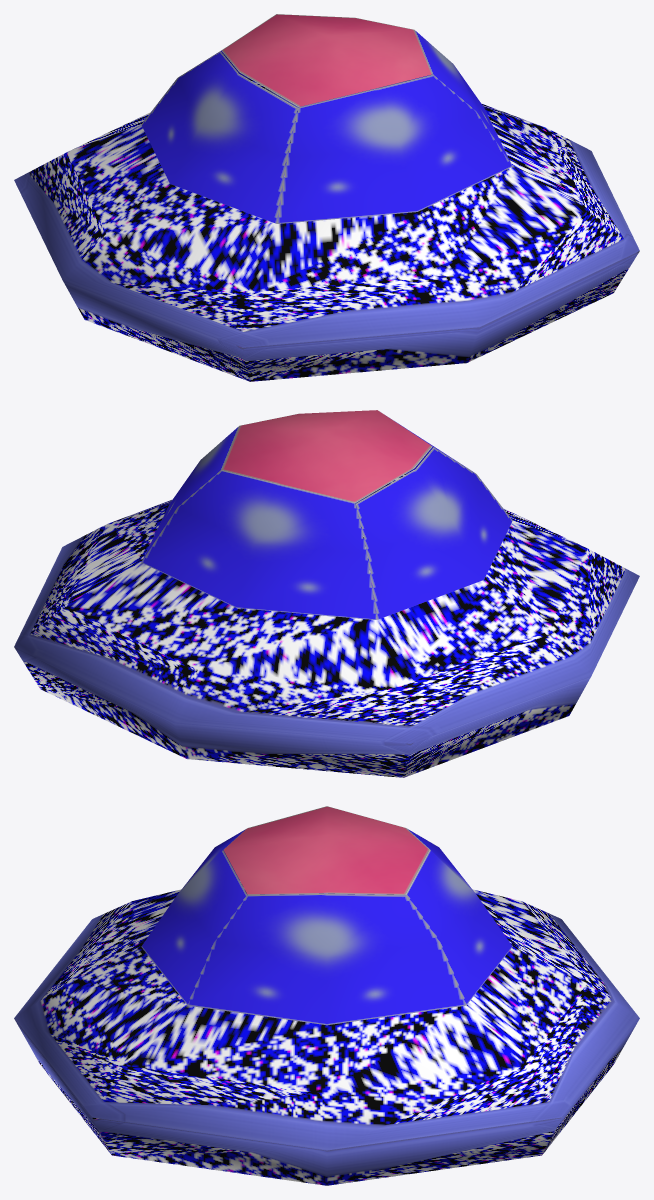
Rendered from SmallUFO.FBX.
3 renders of one model, top to bottom at view 1: azimuth 30°, elevation 25°; view 2: azimuth 150°, elevation 25°; view 3: azimuth 270°, elevation 25°, orthographic. The views are drawn at different scales.
Visible parts, largest first — view 1: Small UFO; view 2: Small UFO; view 3: Small UFO.
Boxes of the visible parts, <box> form: Small UFO: <box>14,14,639,381</box>; Small UFO: <box>14,410,639,777</box>; Small UFO: <box>14,806,639,1185</box>.
Size of the model in its own units: 11.22 by 5.57 by 11.22.
Materials: 1 (1 with a texture image).
